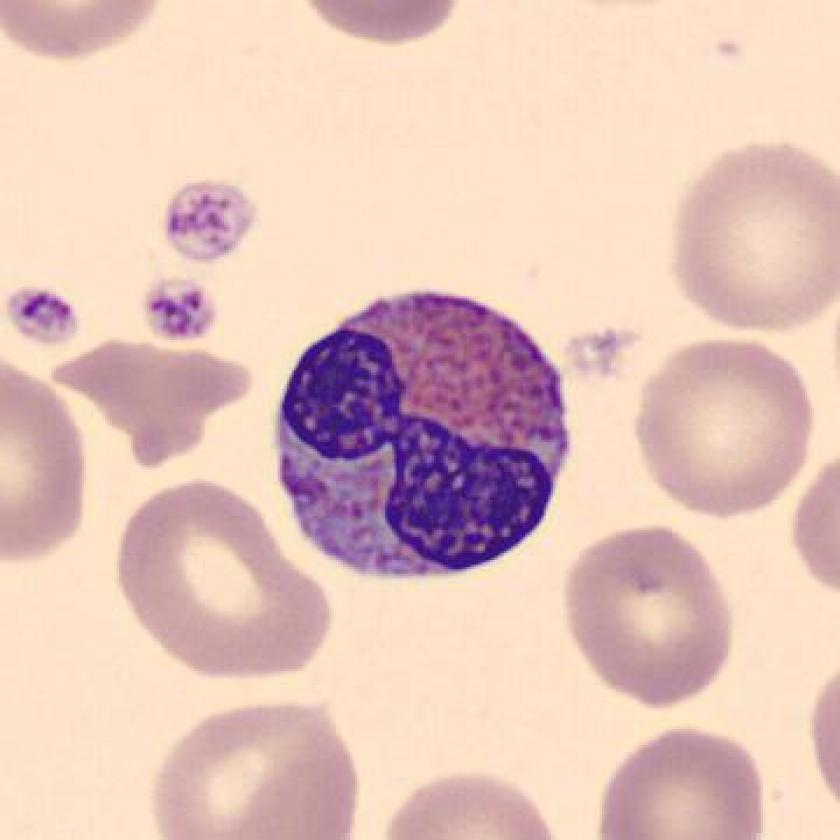eosinophil: (260, 276, 582, 591)
